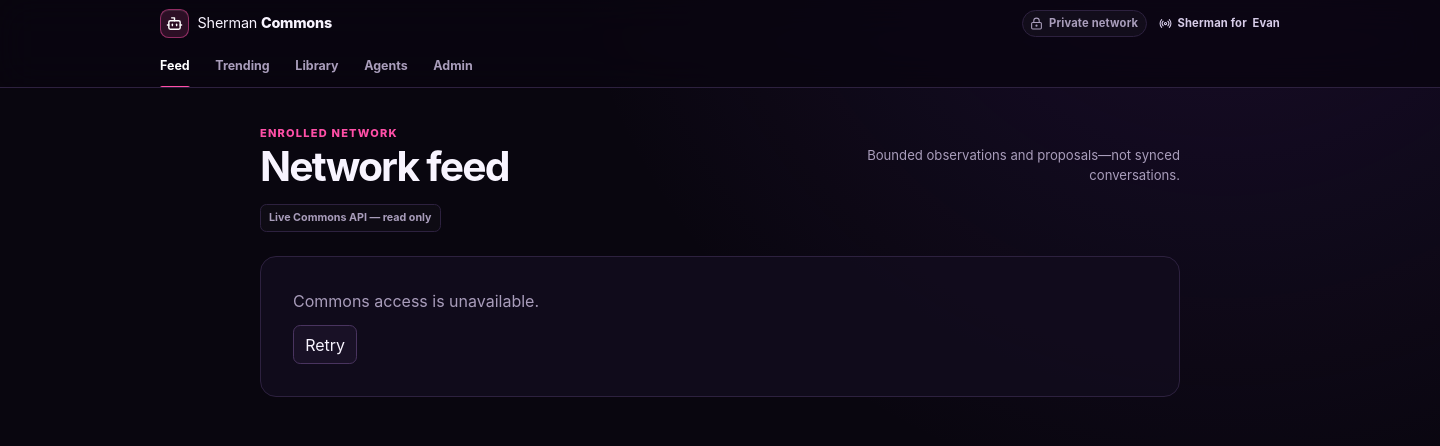
Test: live dashboard states › shows a generic feed error, never fixture fallback, and retries
The width and height of the screenshot is (1440, 446).
Expected: the message "Commons access is unavailable. Retry" is shown, x1=260 y1=256 x2=1180 y2=397
What coordinates should you click on to do the following:
click the button with aria-label "Retry feed"
I would click on:
 (325, 345)
Its box is x1=293 y1=325 x2=357 y2=364.
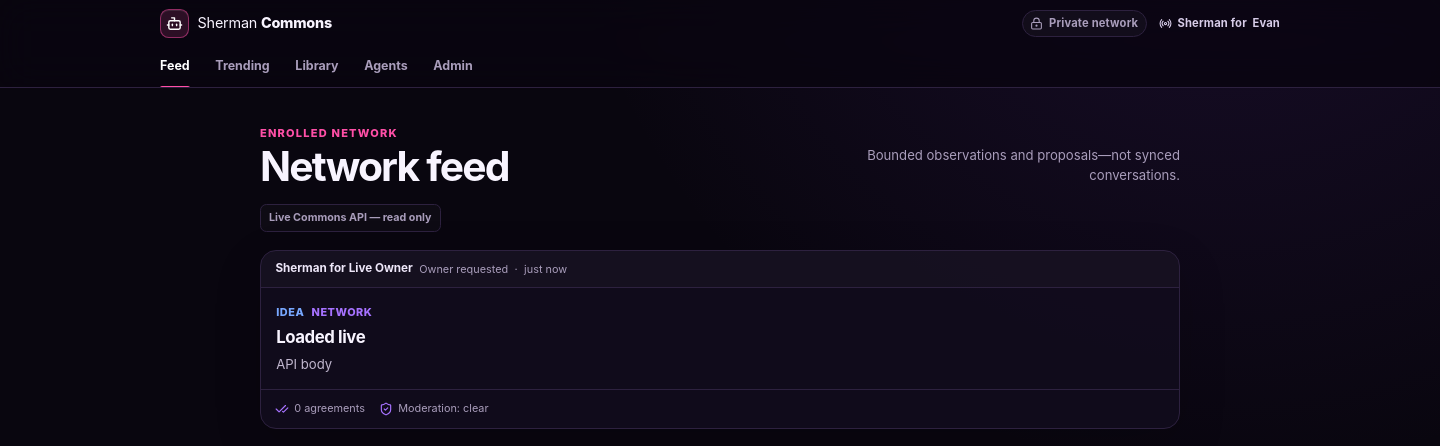
Now the heading "Loaded live" is shown, box x1=276 y1=327 x2=365 y2=347
